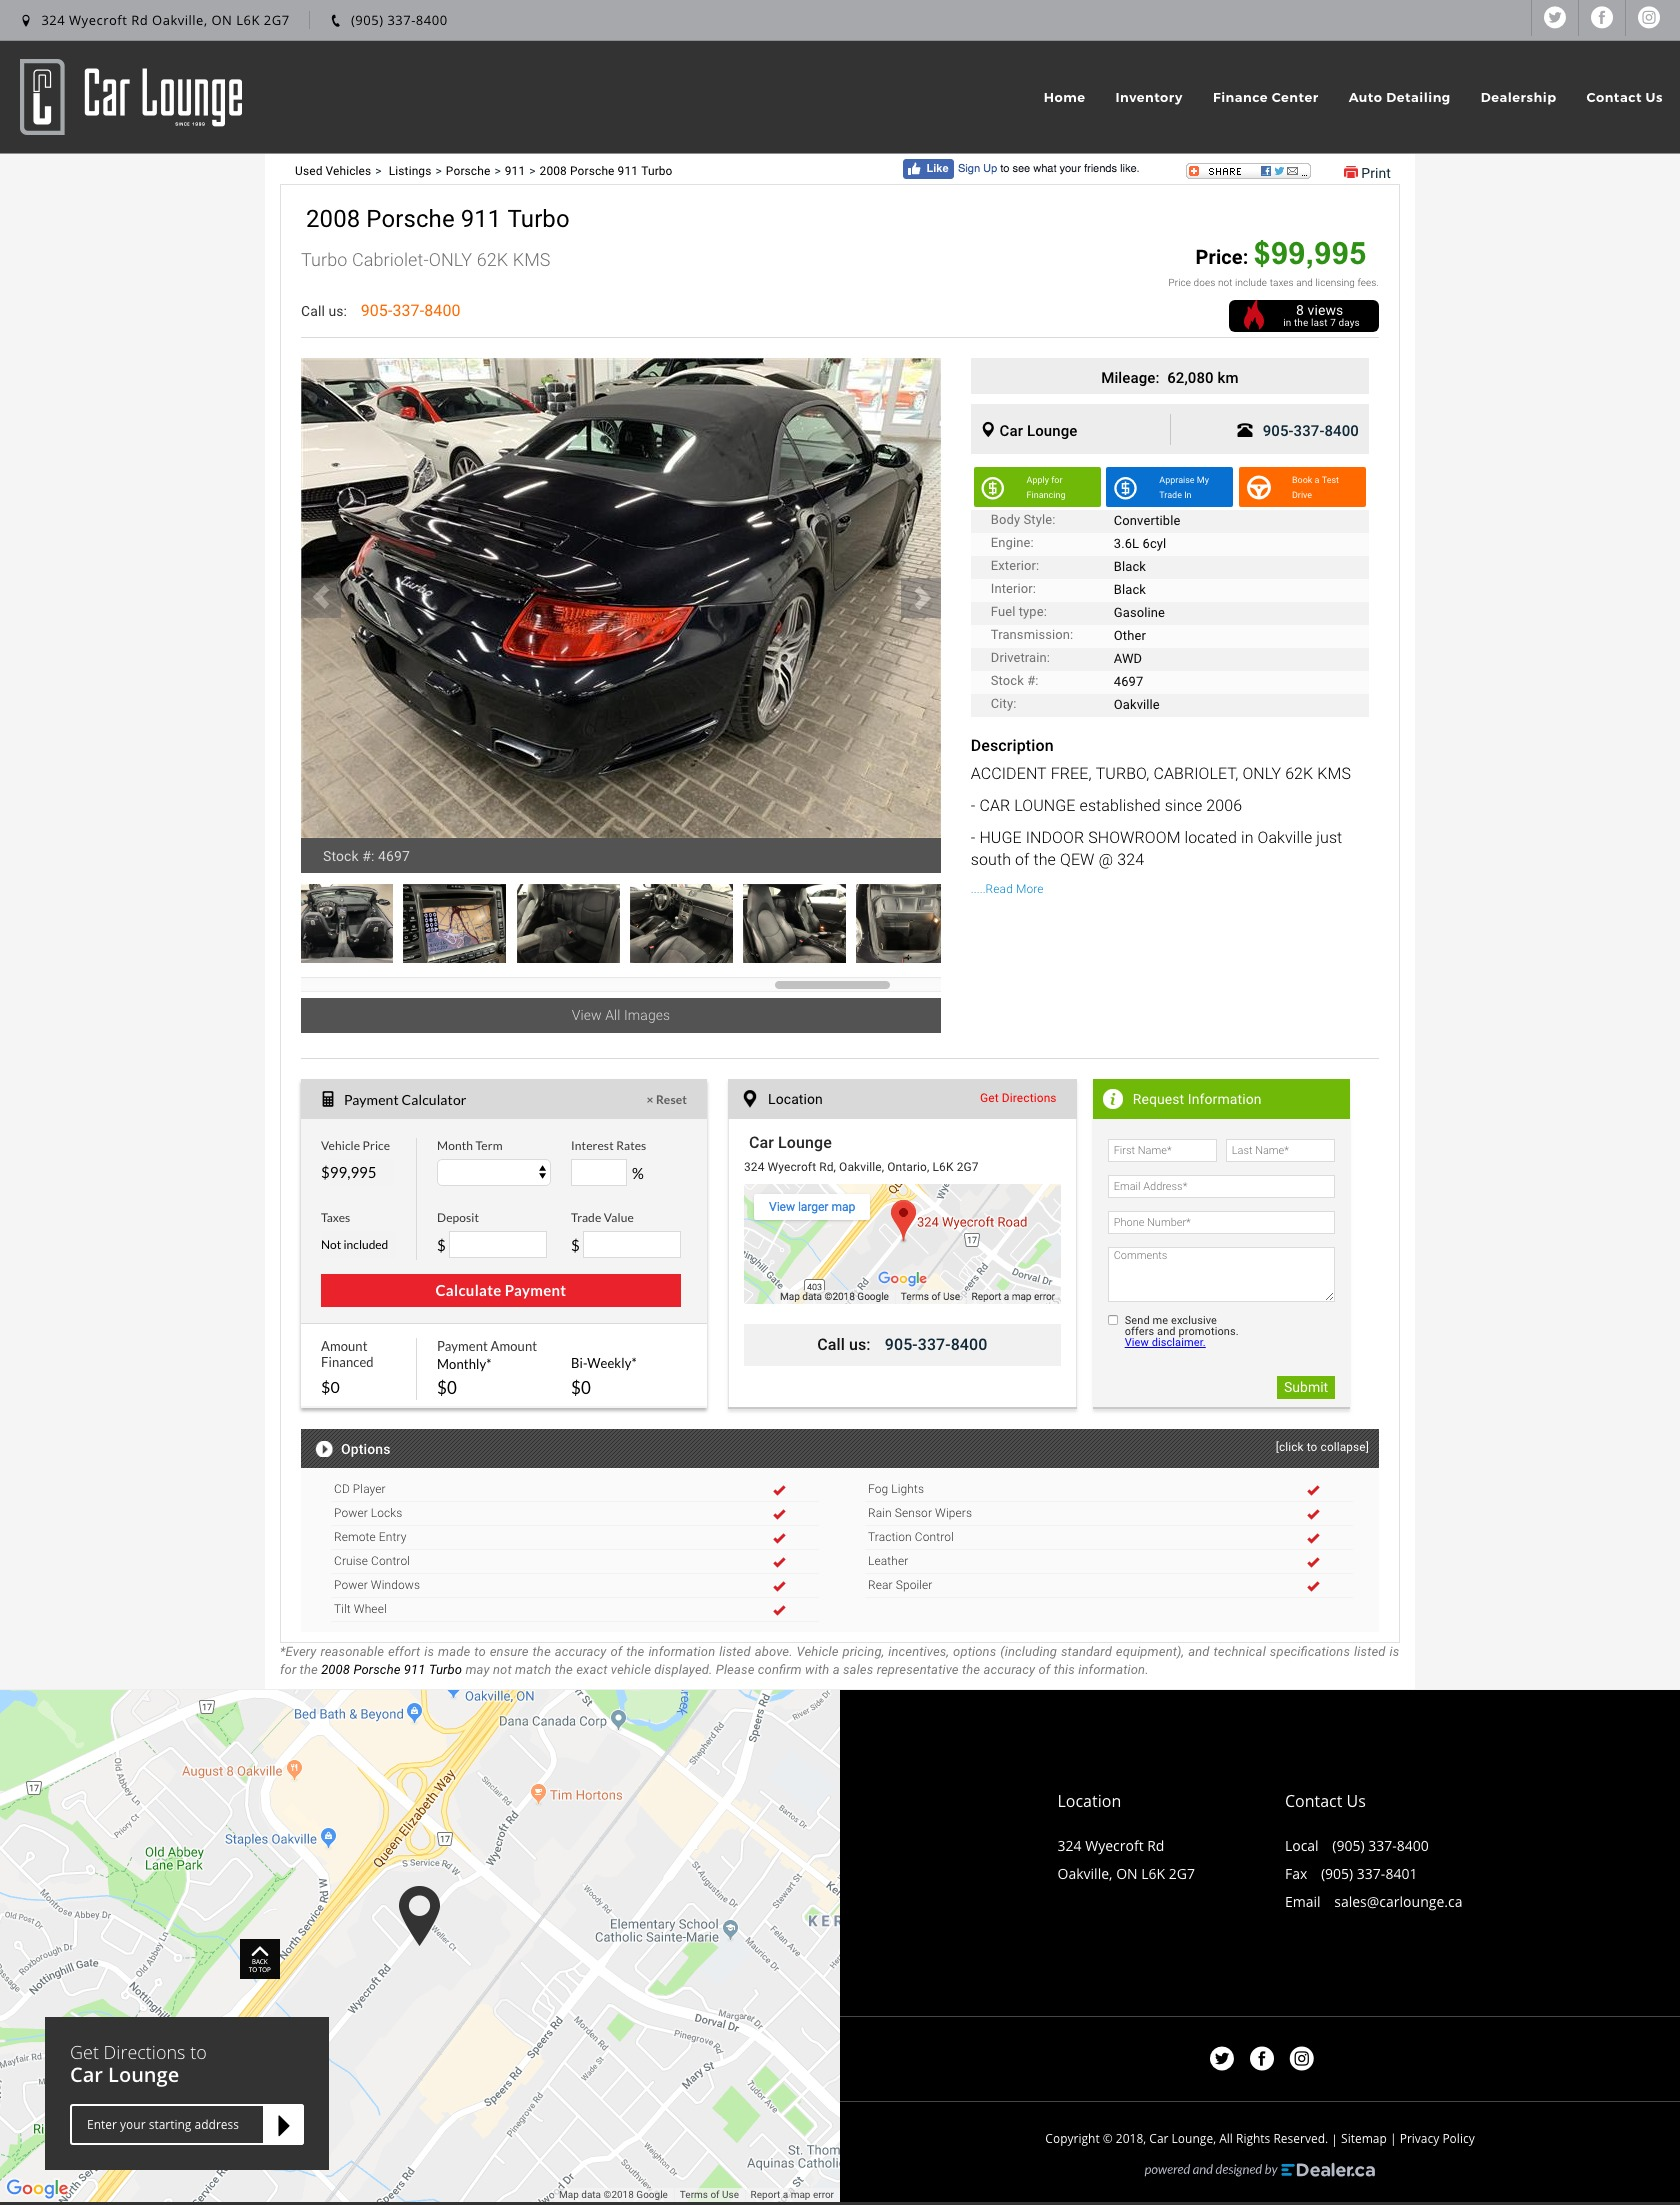car: (900, 577, 944, 621)
